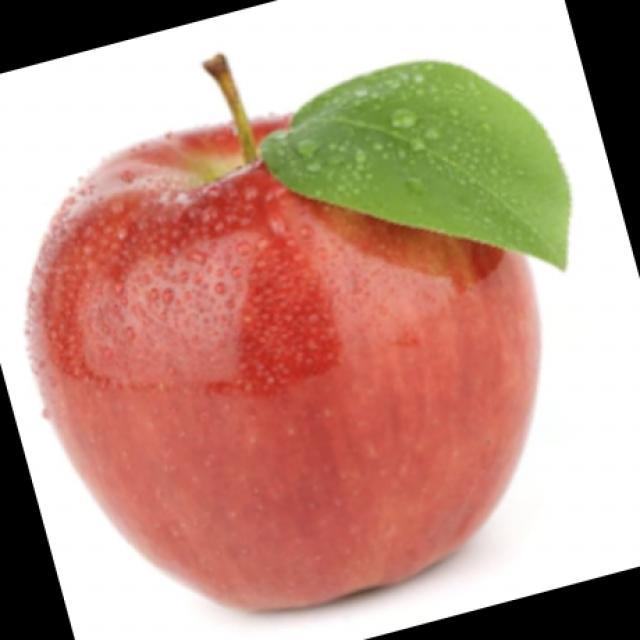Fresh Apple: (22, 104, 528, 628)
